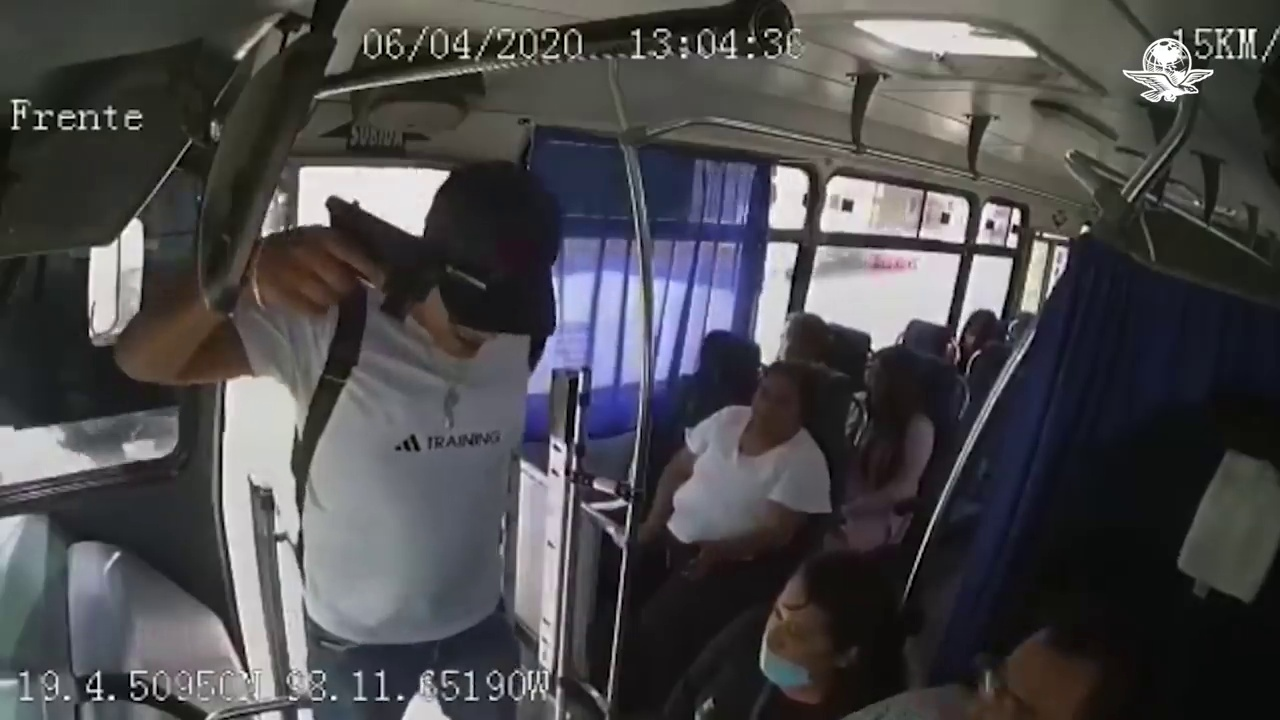pistol: (323, 193, 499, 327)
